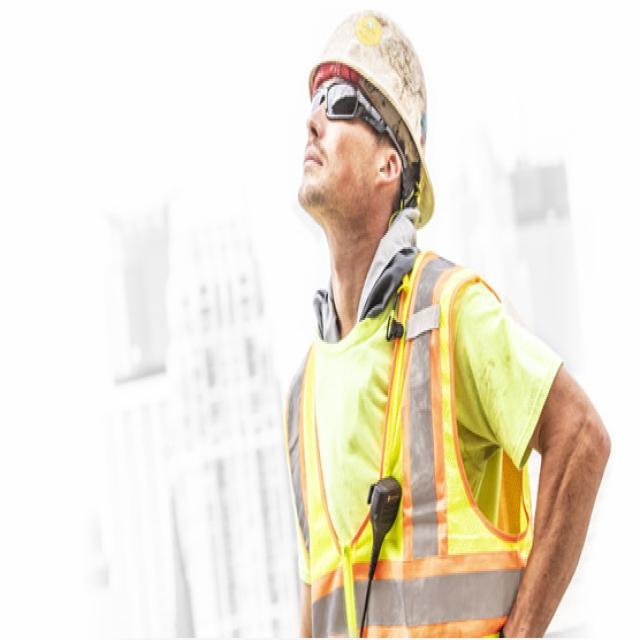goggles: (303, 66, 400, 140)
helmet: (304, 2, 458, 192)
vest: (283, 258, 484, 640)
